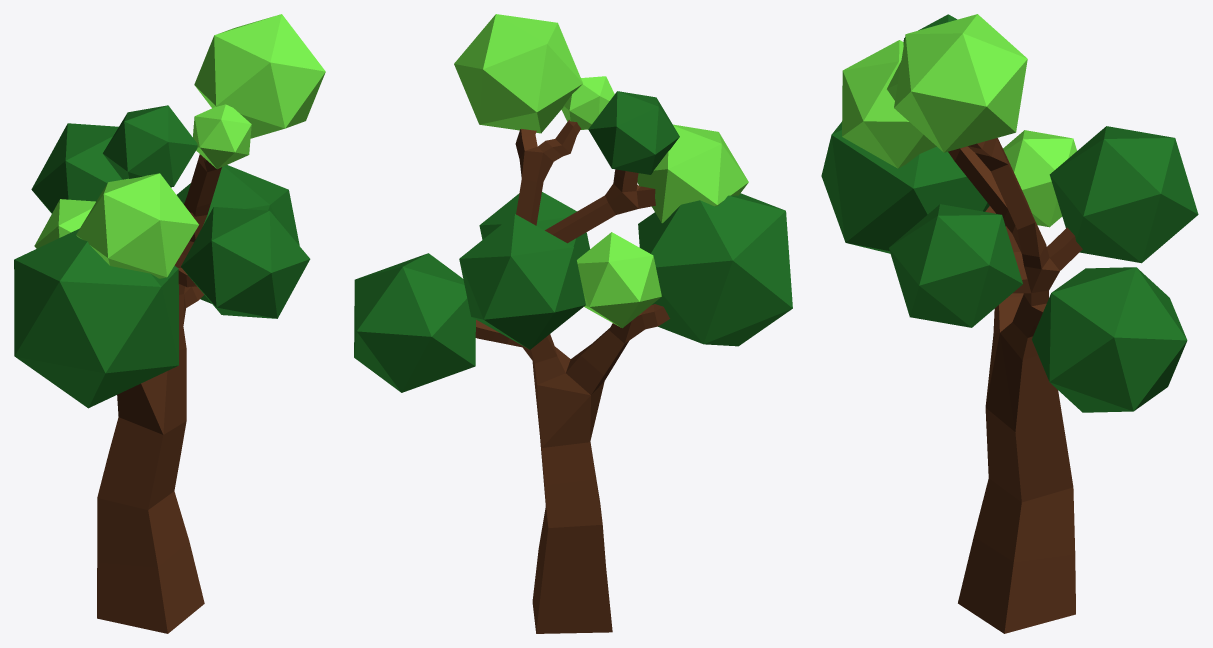
Rendered from TreeB.fbx.
3 views of the same model, side by side, from view 1: azimuth 30°, elevation 25°; view 2: azimuth 150°, elevation 25°; view 3: azimuth 270°, elevation 25° (orthographic). The views are drawn at different scales.
Visible parts, largest first — view 1: Leafs, Trunk; view 2: Leafs, Trunk; view 3: Leafs, Trunk.
Part boxes in pixels (x1,y1,x2,y2): Leafs: [14, 14, 325, 408]; Trunk: [97, 154, 221, 633]; Leafs: [354, 14, 792, 392]; Trunk: [475, 120, 669, 633]; Leafs: [821, 14, 1198, 412]; Trunk: [948, 138, 1082, 633].
Size of the model in its own units: 84.75 by 130 by 70.41.
